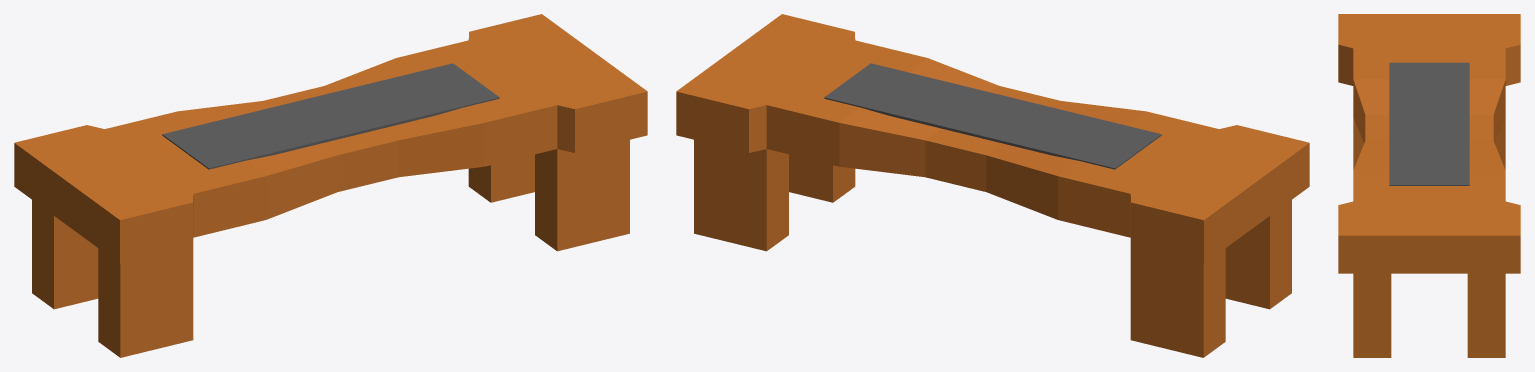
File: table.fbx
The picture shows the model from 3 angles, left to right: view 1: azimuth 30°, elevation 25°; view 2: azimuth 150°, elevation 25°; view 3: azimuth 270°, elevation 25°; orthographic projection. The views are drawn at different scales.
Visible parts, largest first — view 1: Table, Table_Top; view 2: Table, Table_Top; view 3: Table, Table_Top.
Part boxes in pixels (<box>): Table: <box>14,14,647,357</box>; Table_Top: <box>162,63,499,169</box>; Table: <box>676,14,1309,357</box>; Table_Top: <box>824,63,1161,169</box>; Table: <box>1338,14,1520,357</box>; Table_Top: <box>1389,62,1469,185</box>.
Size of the model in its own units: 689 by 184 by 239.
